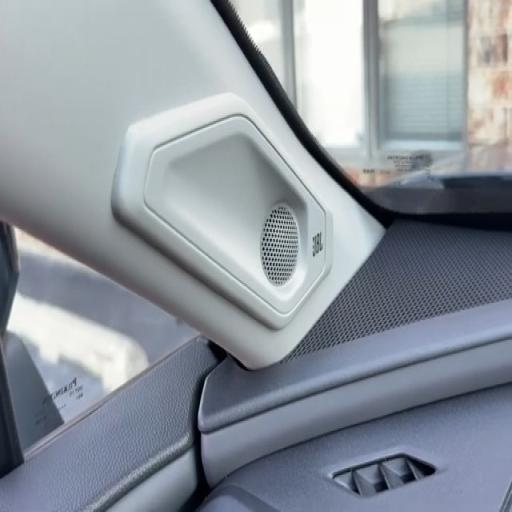windshield: (232, 0, 511, 199)
